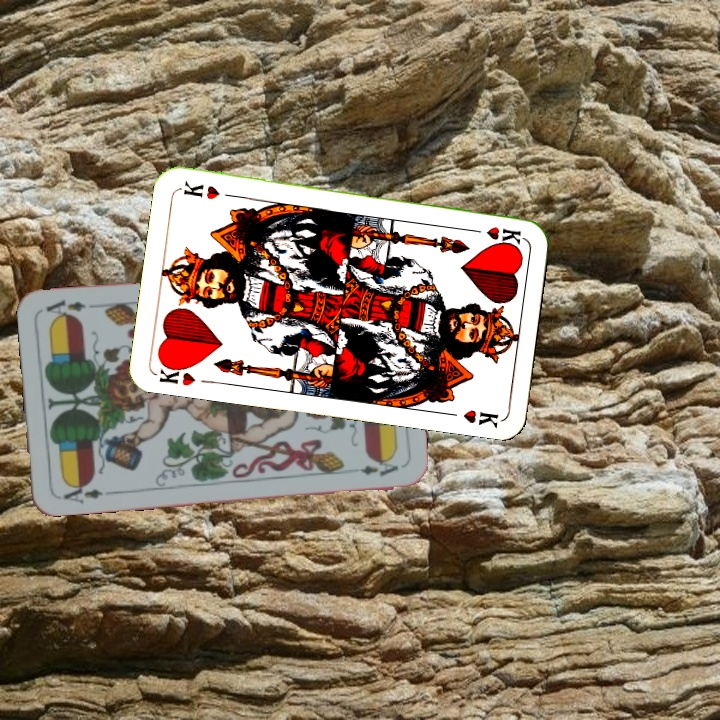EA: (60, 478, 114, 506)
HK: (465, 222, 524, 246), (153, 358, 198, 389)
